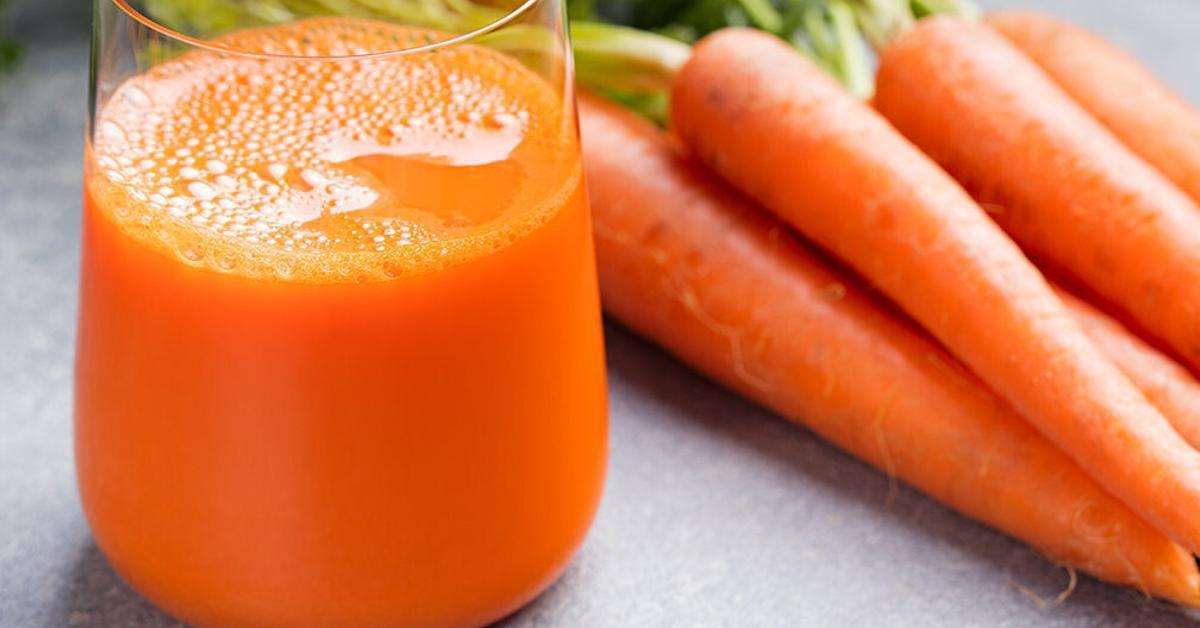carrot: (609, 8, 1200, 598)
